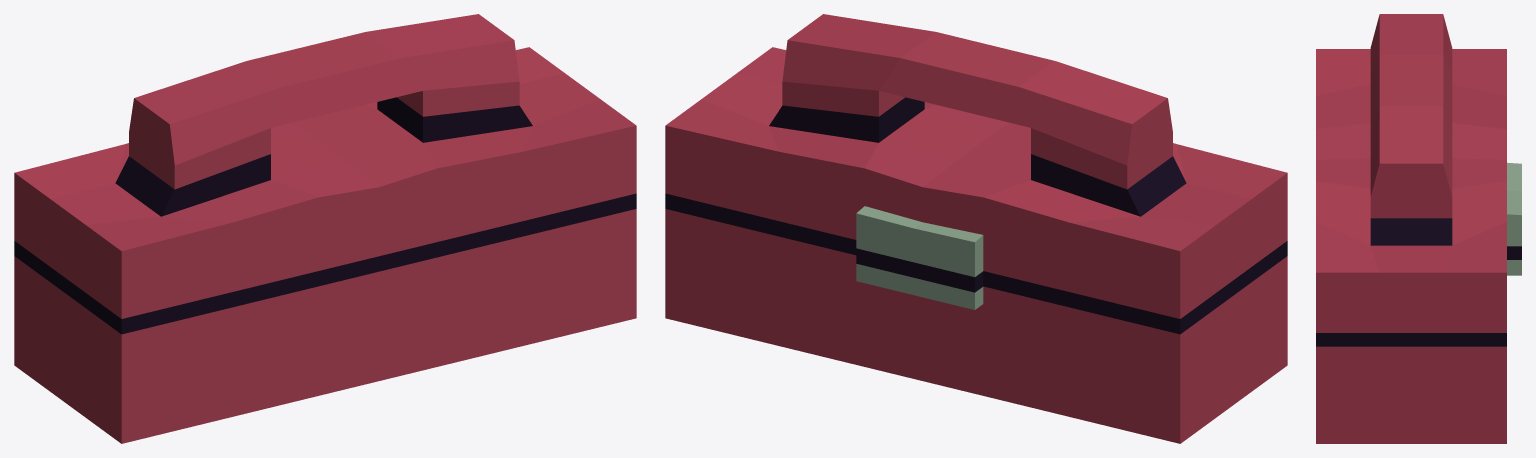
File: WorkBox.fbx
3 renders of one model, left to right at view 1: azimuth 30°, elevation 25°; view 2: azimuth 150°, elevation 25°; view 3: azimuth 270°, elevation 25°, orthographic. The views are drawn at different scales.
Parts seen in each view (by area): view 1: WorkBox; view 2: WorkBox; view 3: WorkBox.
Part boxes in pixels (x1=…): WorkBox: x1=14, y1=14, x2=636, y2=443; WorkBox: x1=665, y1=14, x2=1287, y2=443; WorkBox: x1=1316, y1=14, x2=1521, y2=443.
Bounding box in the file's own units: 121 × 63.63 × 47.23.
